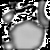node: (10, 19, 45, 50), (2, 11, 15, 23), (3, 43, 14, 50)
